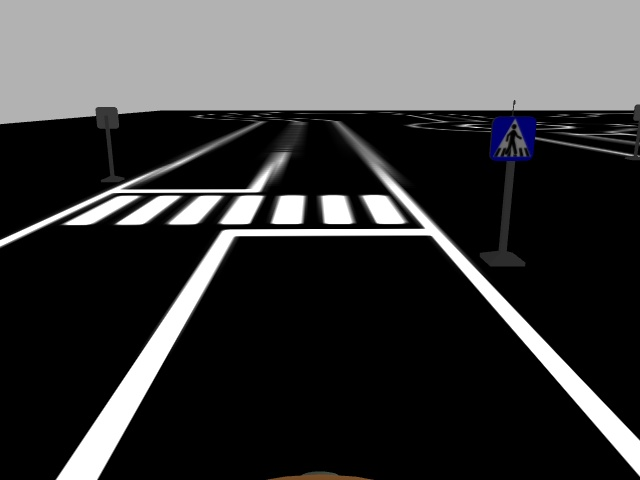crosswalk: (487, 114, 539, 165)
